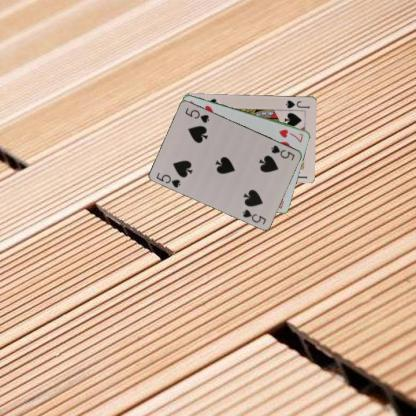5s: (154, 170, 182, 189), (269, 142, 296, 161)
7h: (277, 127, 304, 144)
Js: (283, 98, 311, 110)
